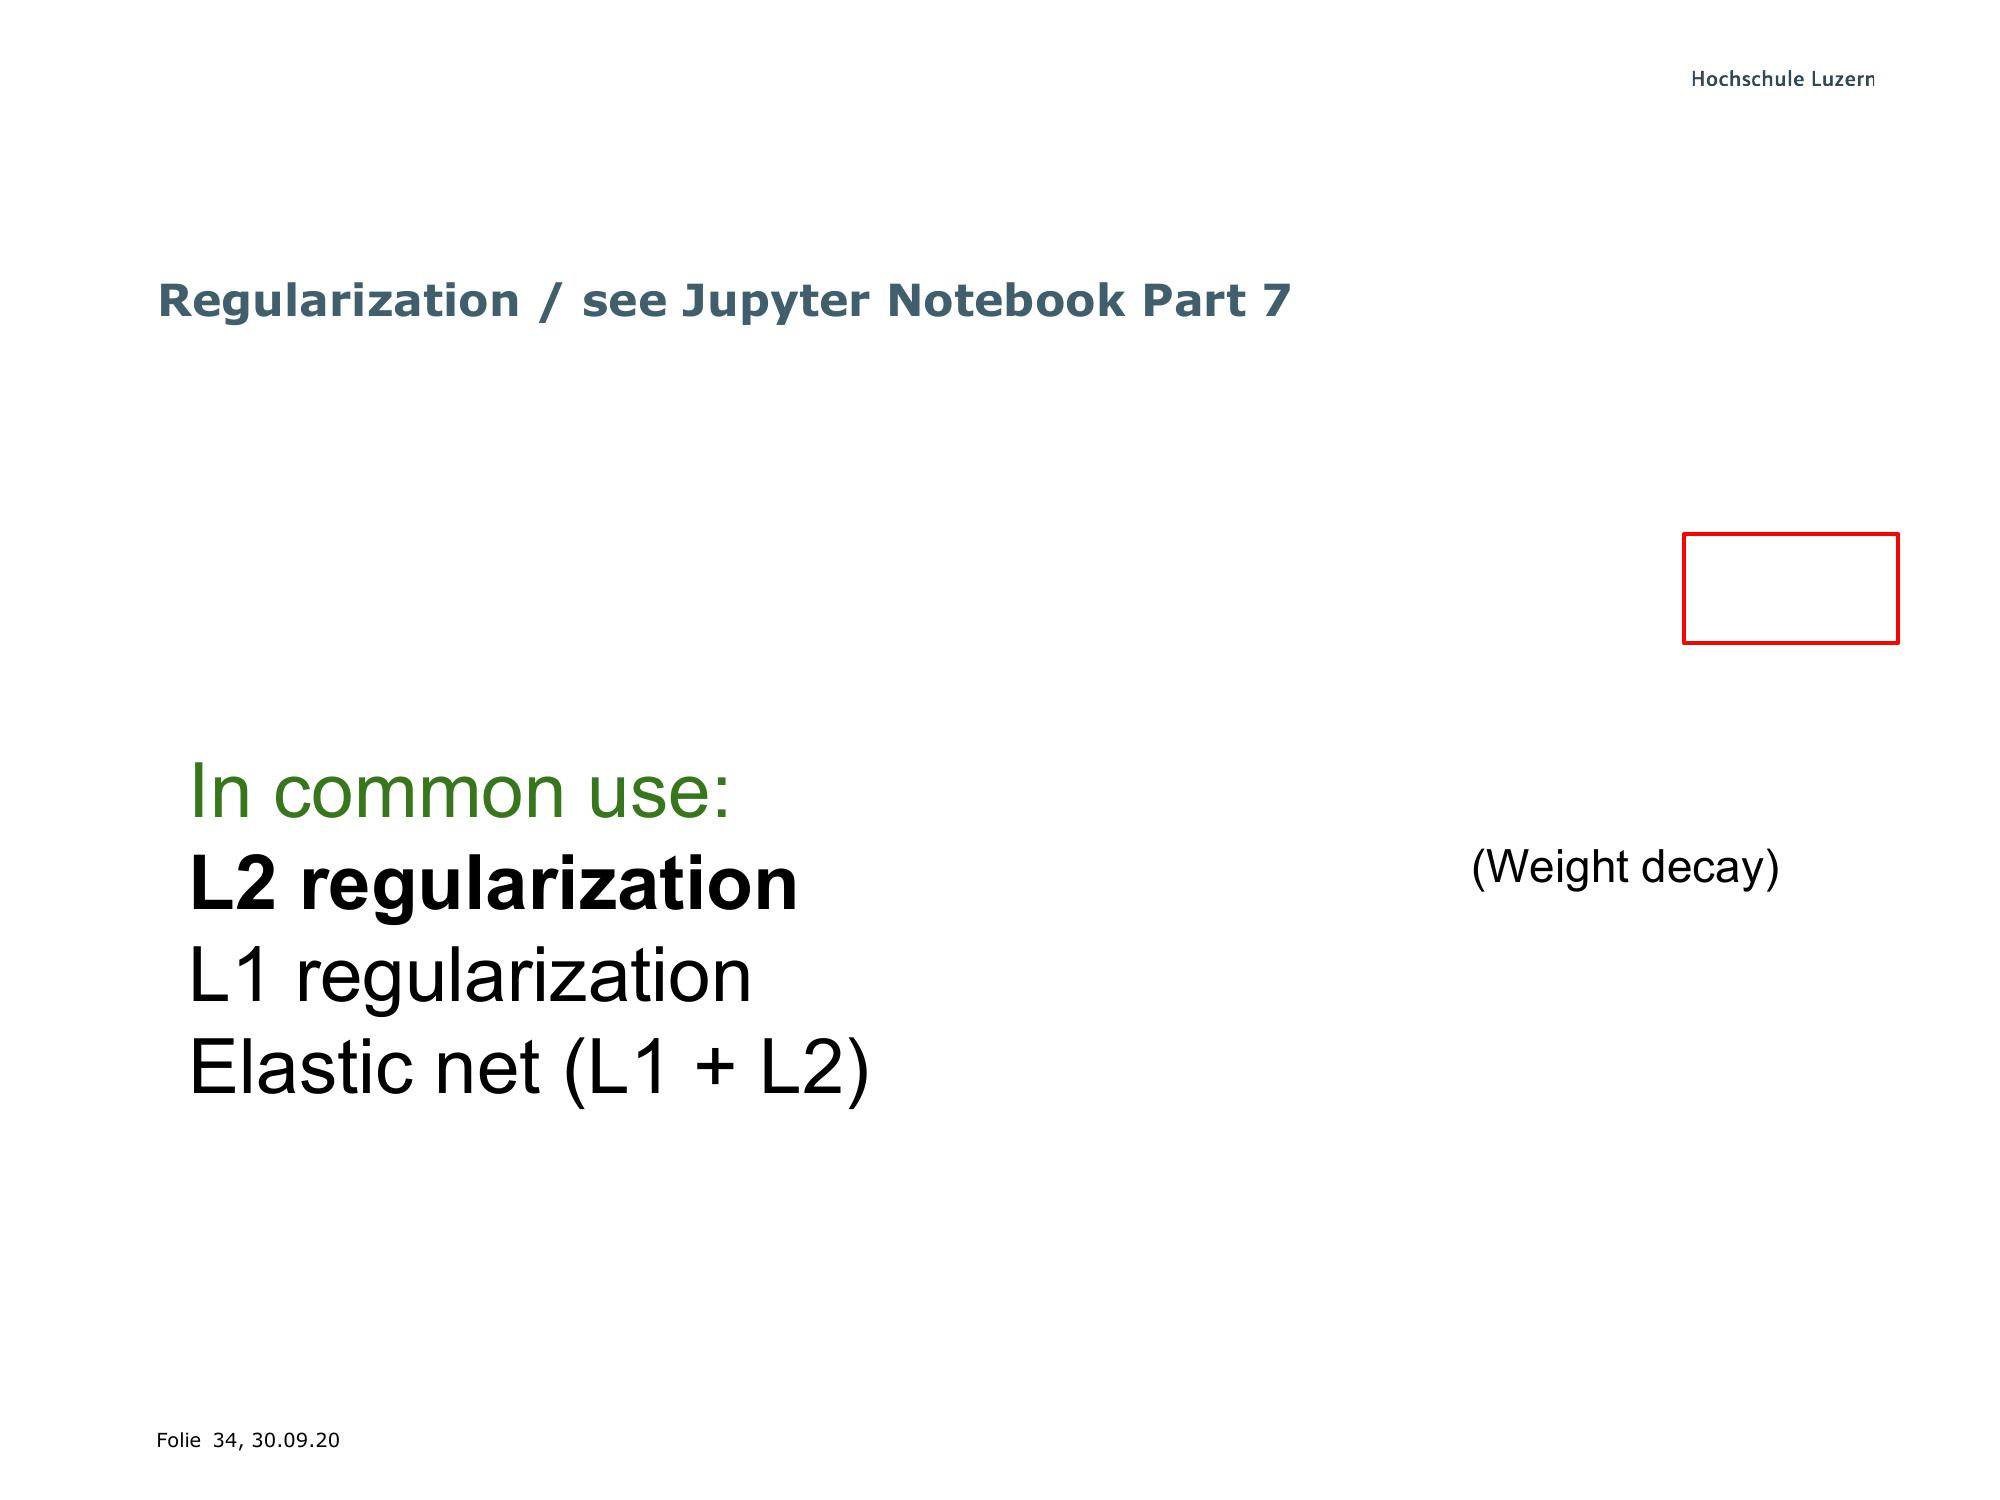Title: (135, 254, 1309, 343)
